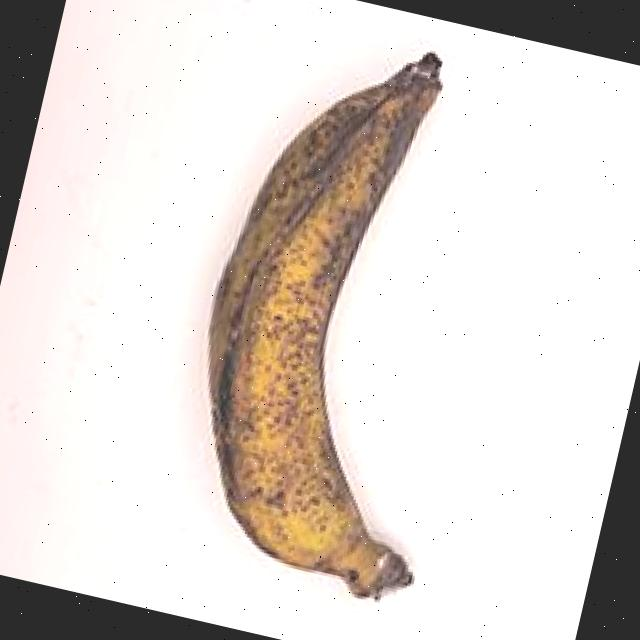Overripe: (130, 0, 549, 614)
